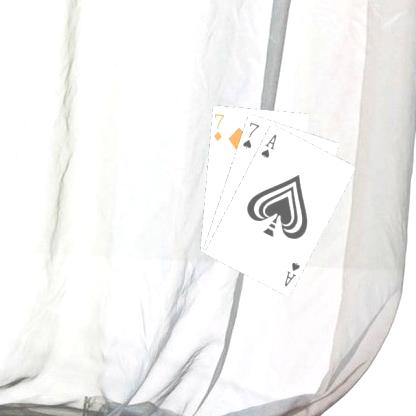7D: (210, 110, 226, 142)
7S: (240, 119, 260, 150)
AS: (282, 258, 302, 288), (258, 131, 278, 159)
